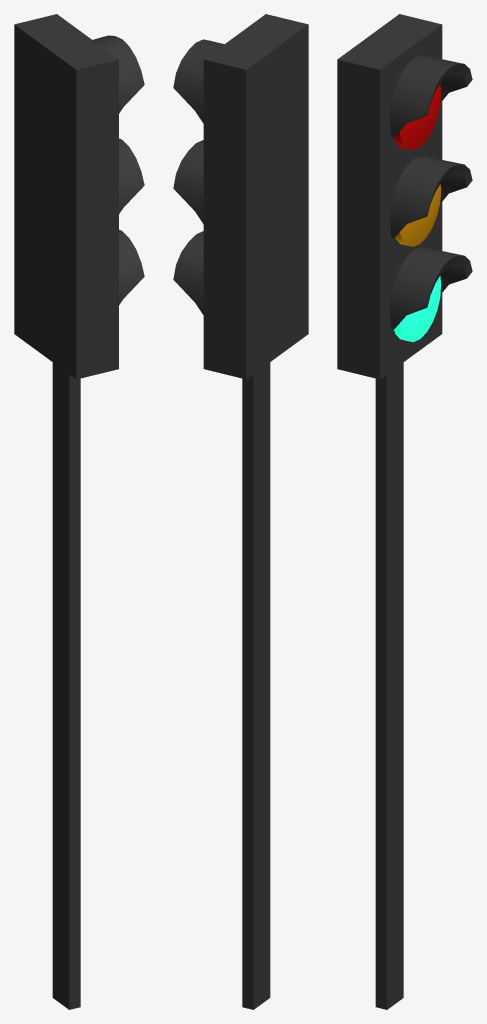
The model's file is trafficlight.fbx.
The picture shows the model from 3 angles, left to right: view 1: azimuth 30°, elevation 25°; view 2: azimuth 150°, elevation 25°; view 3: azimuth 330°, elevation 25°; orthographic projection.
Visible parts, largest first — view 1: trafficlight; view 2: trafficlight; view 3: trafficlight.
Boxes of the visible parts, x1,y1,x2,y2 form: trafficlight: [14, 14, 144, 1009]; trafficlight: [173, 14, 308, 1009]; trafficlight: [337, 14, 472, 1009].
Bounding box in the file's own units: 1.73 × 20.03 × 2.35.
